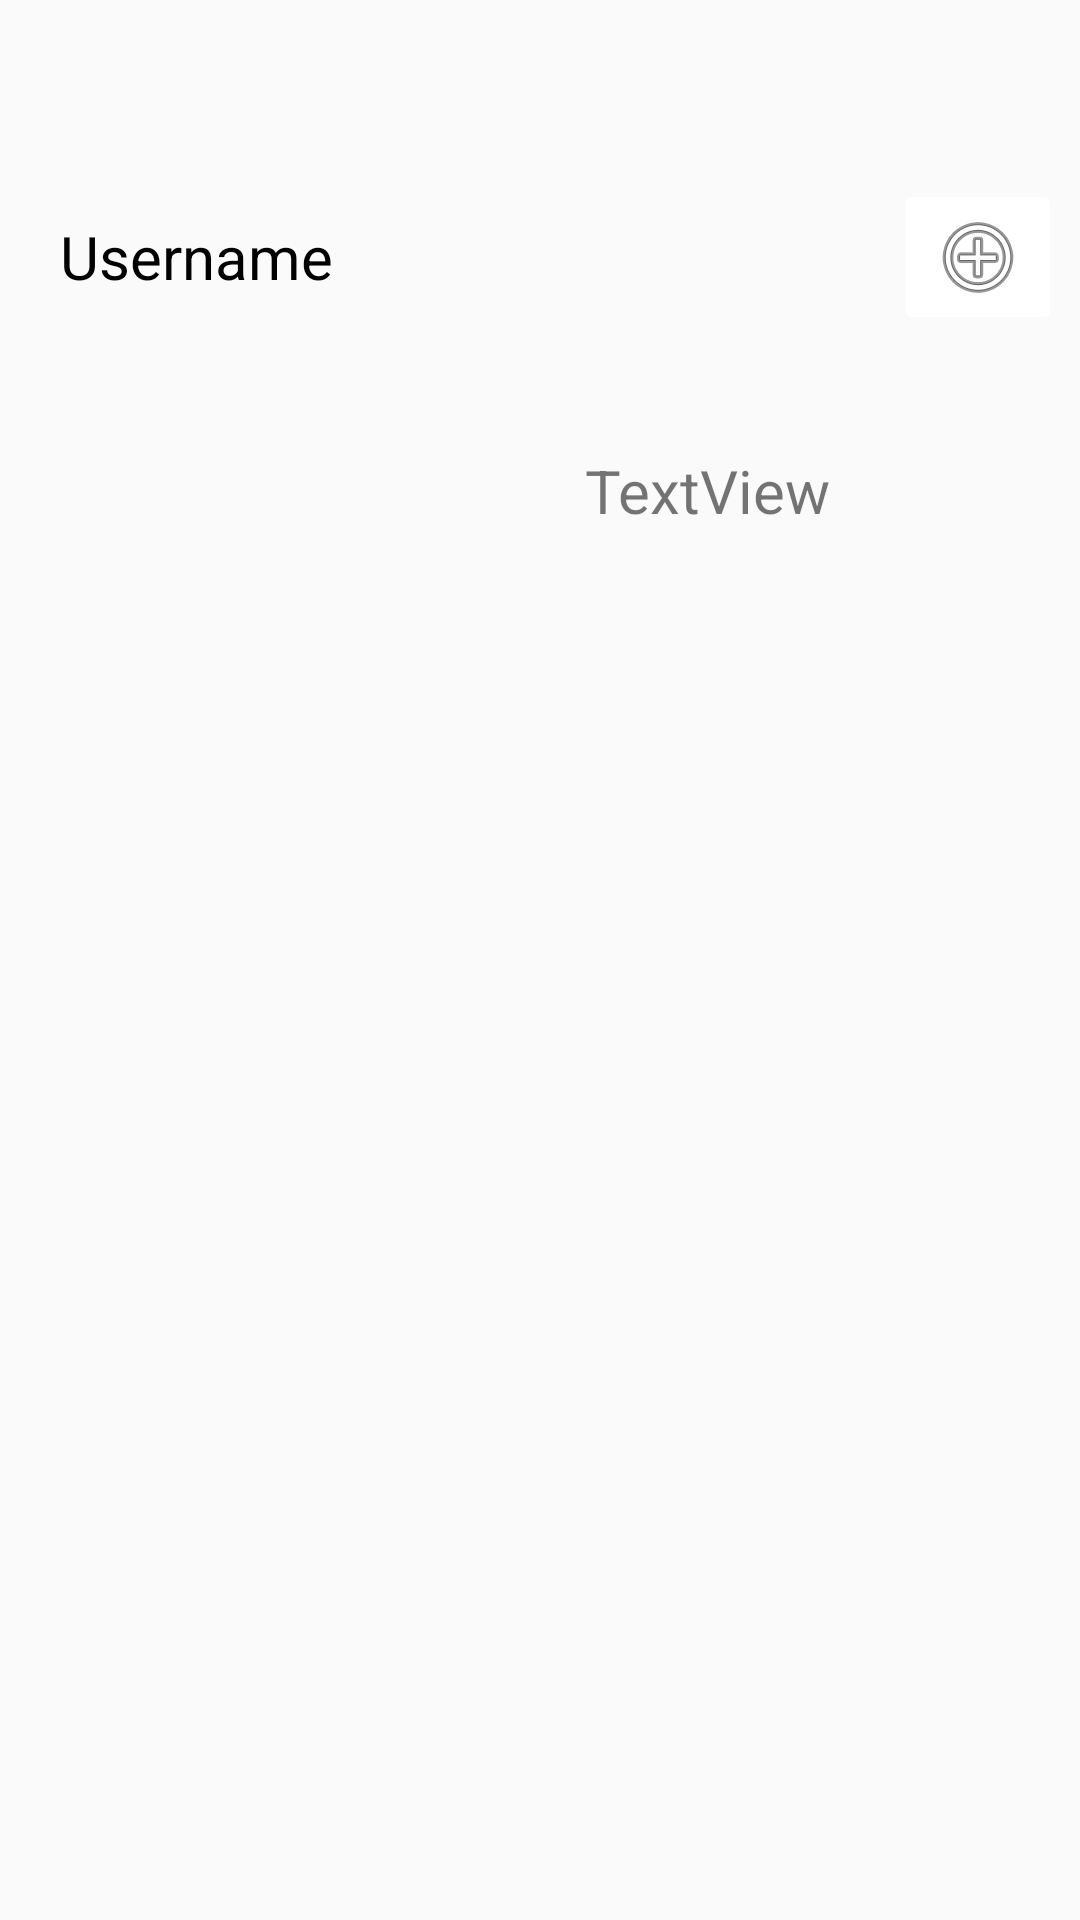

Screen size 1080*1920. Icon name, then its center in pixels as [x,y]:
add: [978,257]
